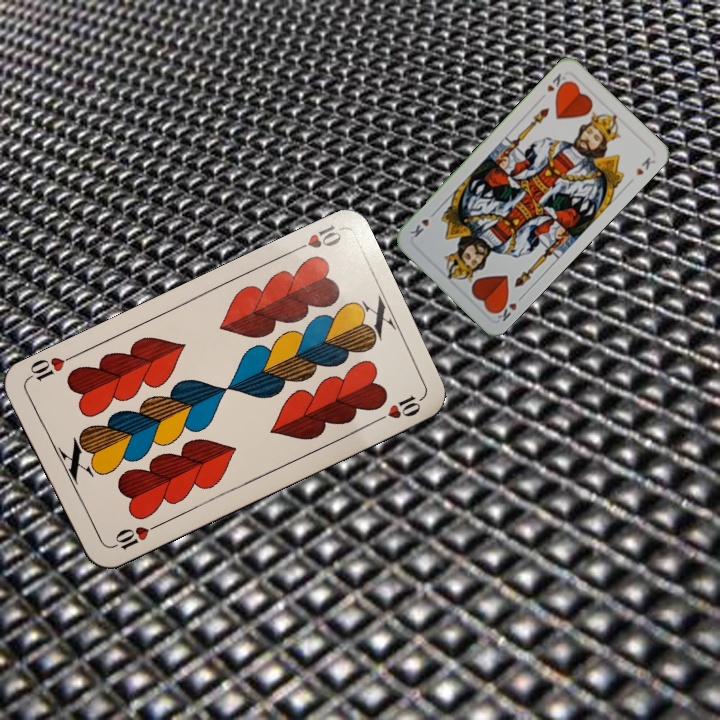H10: (287, 221, 345, 256), (106, 519, 162, 553)
HK: (490, 291, 527, 324), (543, 69, 570, 97)
